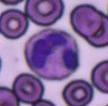N: (24, 29, 79, 81)
